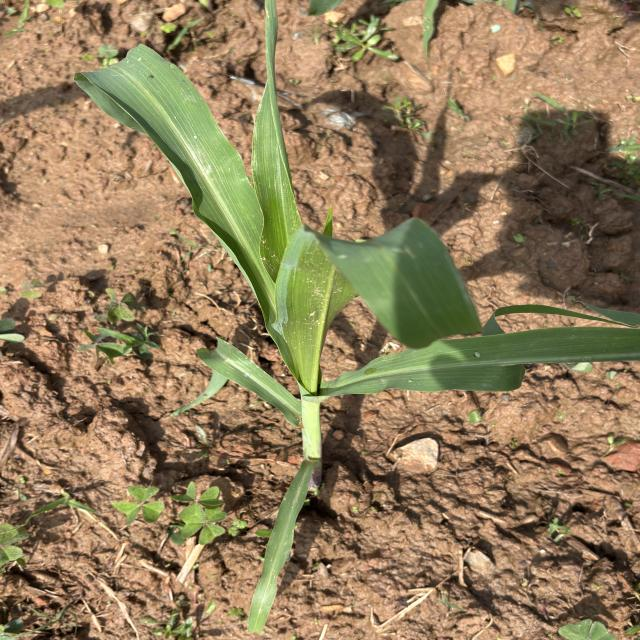maize: (45, 47, 615, 485)
weed: (80, 456, 246, 558), (55, 284, 199, 358), (0, 514, 48, 636), (126, 590, 234, 638), (321, 21, 430, 68), (0, 283, 39, 367), (551, 604, 640, 640), (538, 511, 577, 547)
